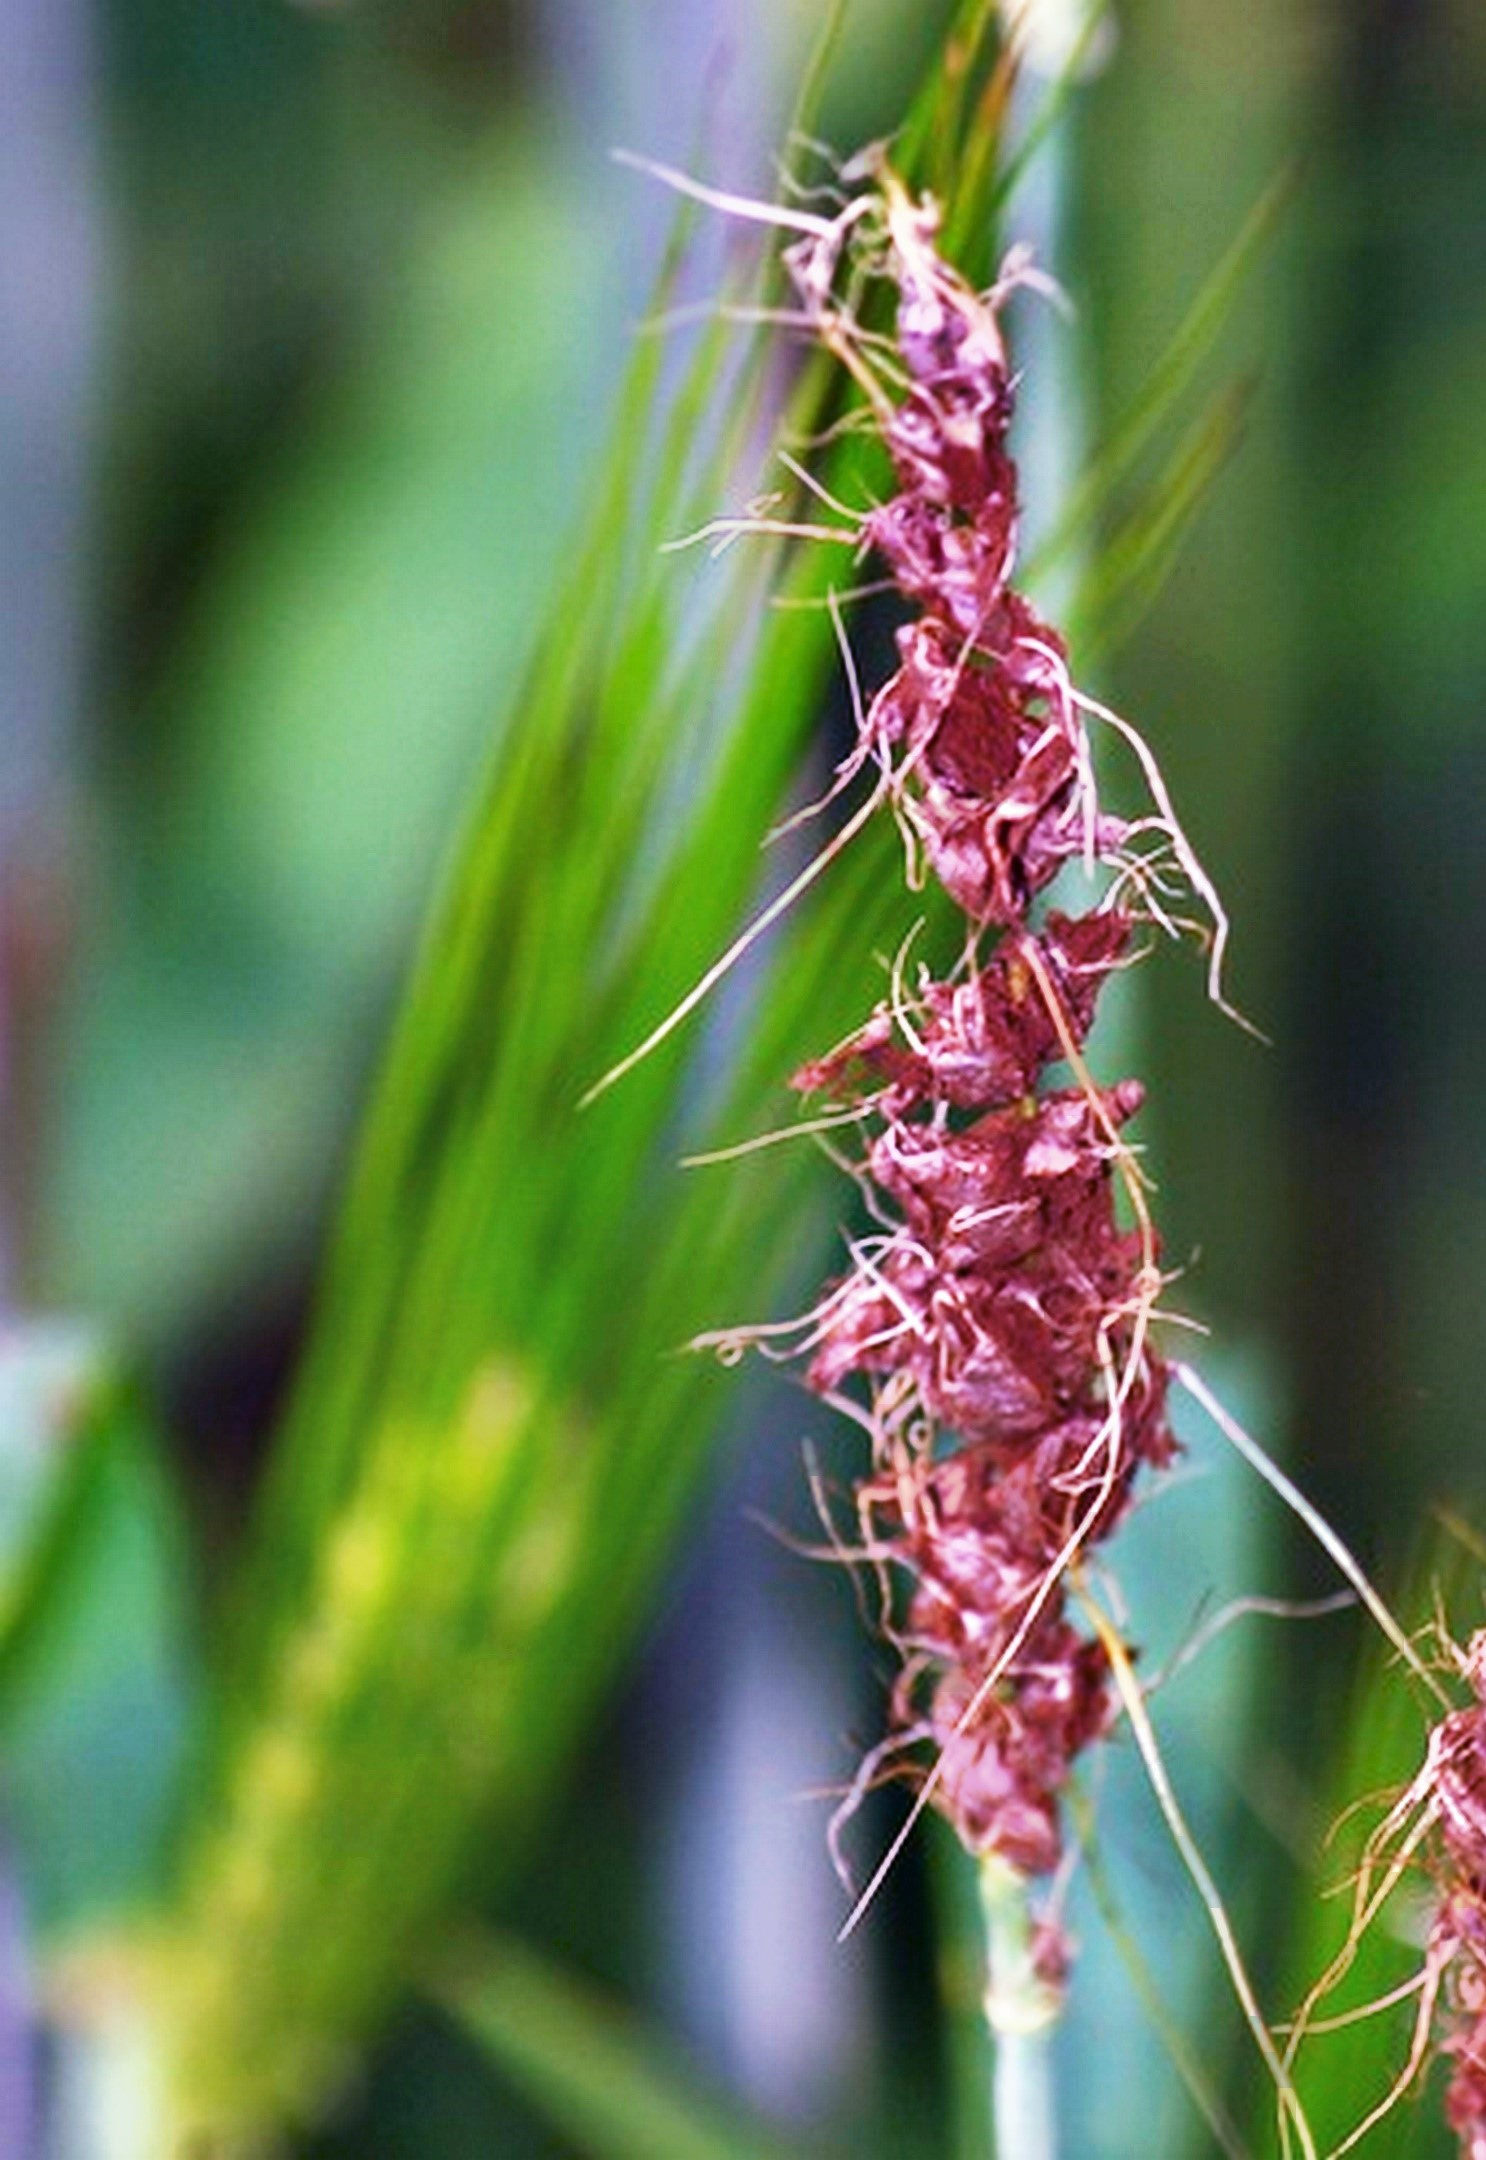Wheat Loose Smut: (693, 171, 1233, 1860)
